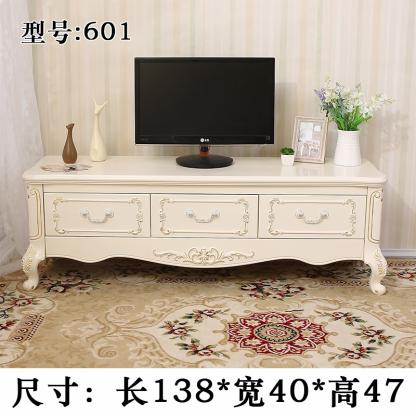TV stand: (22, 157, 388, 295)
